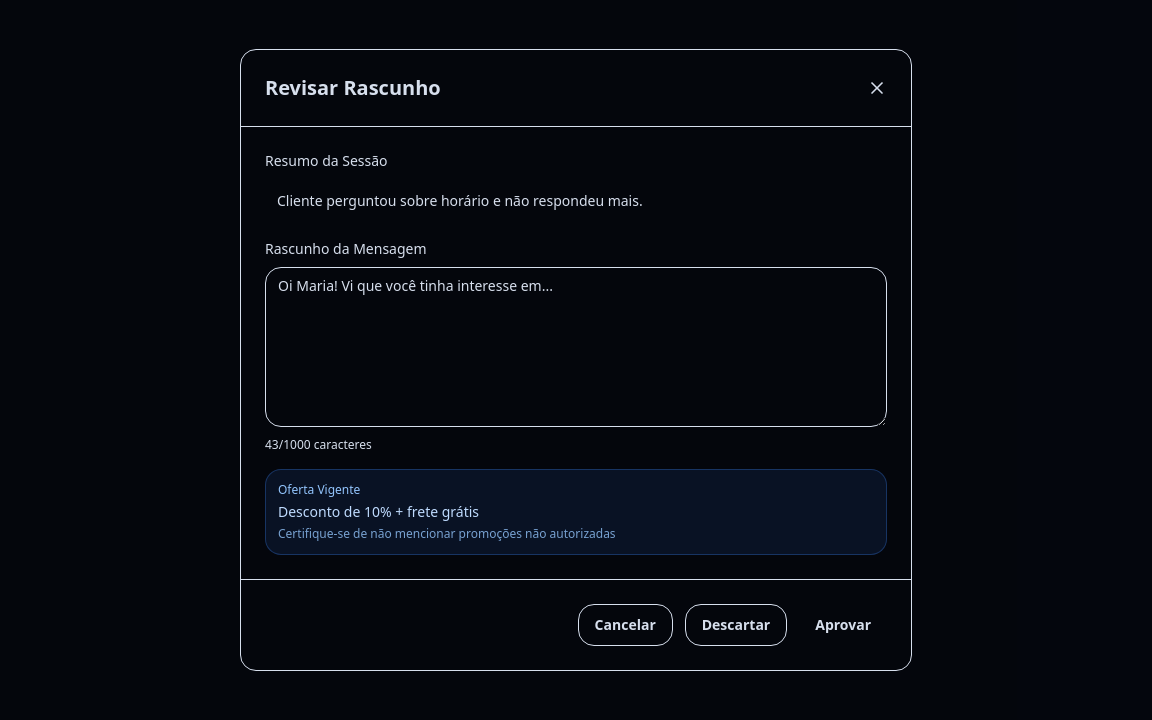
Test: FollowUpEditModal › blocks approval when the draft mentions a discount outside the oferta vigente
Replace the text in the text box labelled "Rascunho da Mensagem" with "Consigo liberar 50% de desconto para você.": (576, 347) [265, 267, 887, 427]
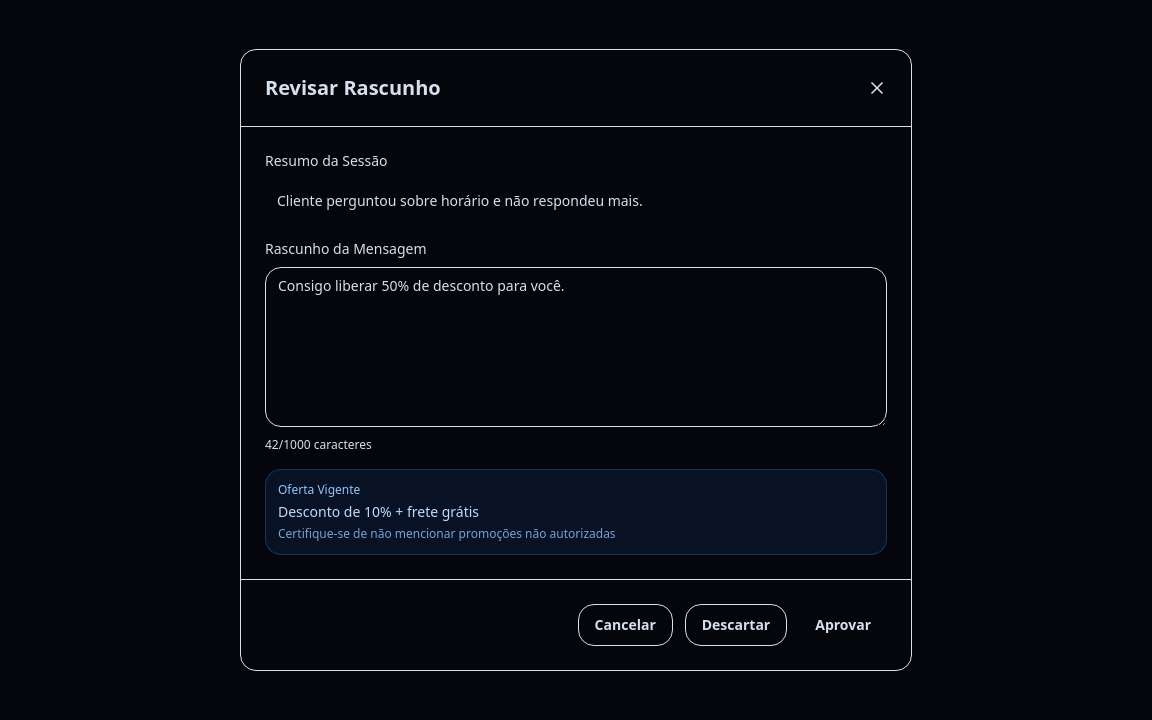
Click the button "Aprovar": (843, 625) [799, 604, 887, 646]
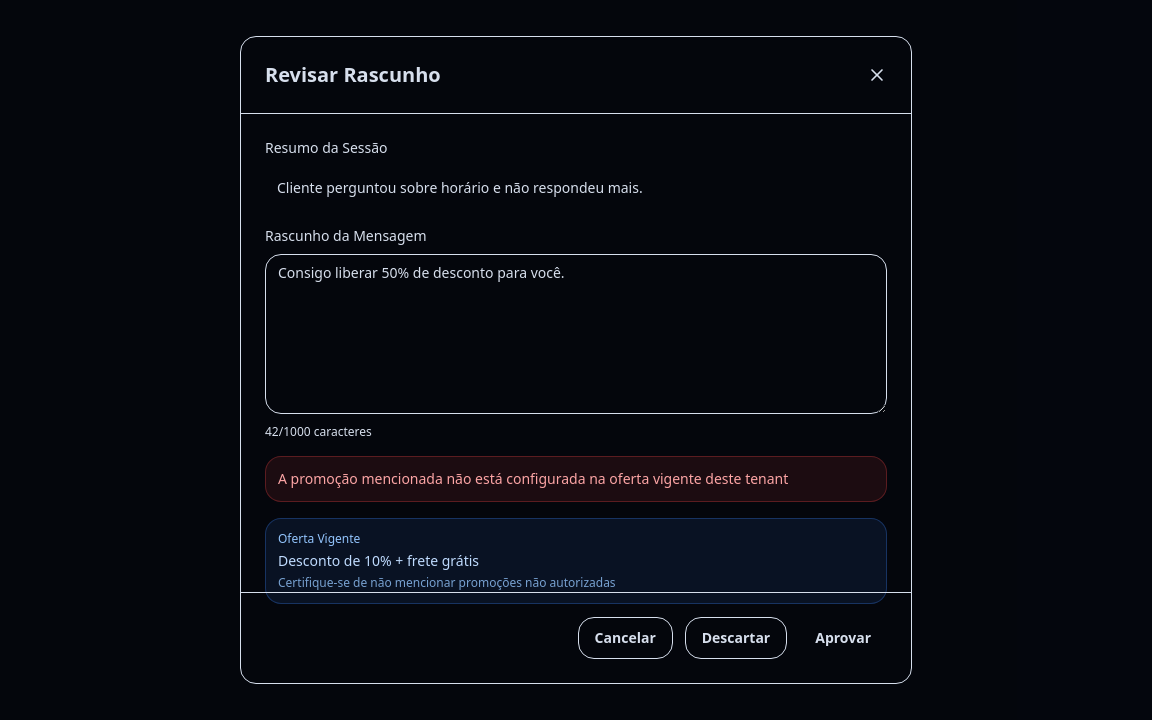
Result: the text "A promoção mencionada não está configurada na oferta vigente deste tenant" is shown at [278, 469, 874, 489]
